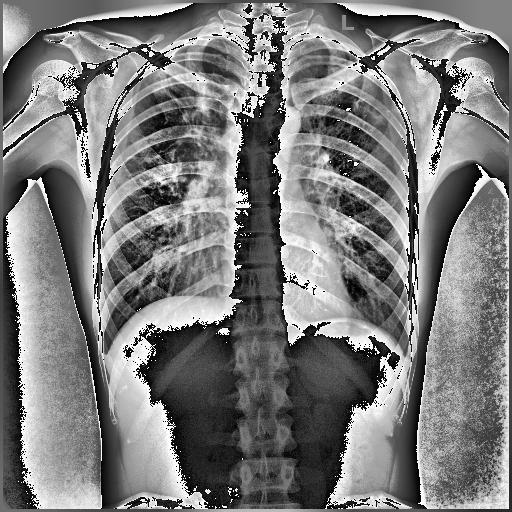13- Pulmonary fibrosis: (131, 60, 198, 191), (153, 60, 223, 146), (152, 54, 218, 144), (328, 60, 398, 124), (329, 68, 388, 124), (128, 154, 184, 200), (122, 152, 182, 194), (351, 88, 392, 129)
6- Infiltration: (351, 88, 392, 129)
